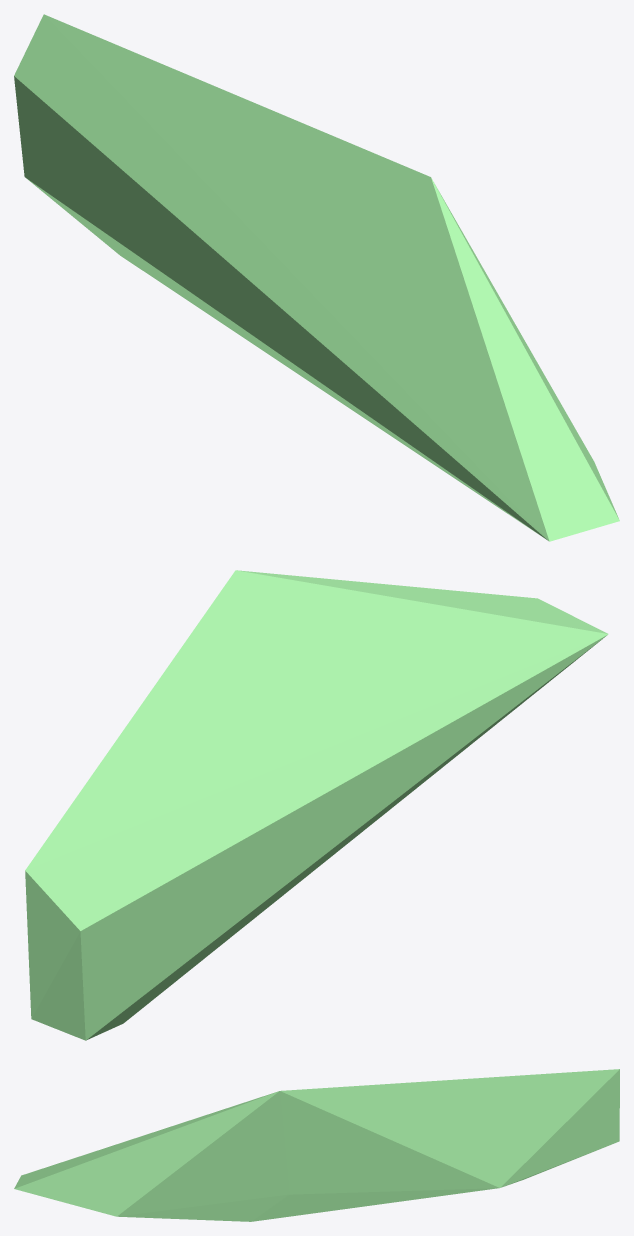
Rendered from spatula_robot_base_coll_16.dae.
The picture shows the model from 3 angles, top to bottom: view 1: azimuth 30°, elevation 25°; view 2: azimuth 150°, elevation 25°; view 3: azimuth 270°, elevation 25°; orthographic projection. The views are drawn at different scales.
Visible parts, largest first — view 1: Node_0x7fe6917b6bb0; view 2: Node_0x7fe6917b6bb0; view 3: Node_0x7fe6917b6bb0.
Part boxes in pixels (x1,y1,x2,y2): Node_0x7fe6917b6bb0: (14,14,619,541); Node_0x7fe6917b6bb0: (25,570,608,1040); Node_0x7fe6917b6bb0: (14,1069,619,1221).
Size of the model in its own units: 0.0153 by 0.0178 by 0.076.
